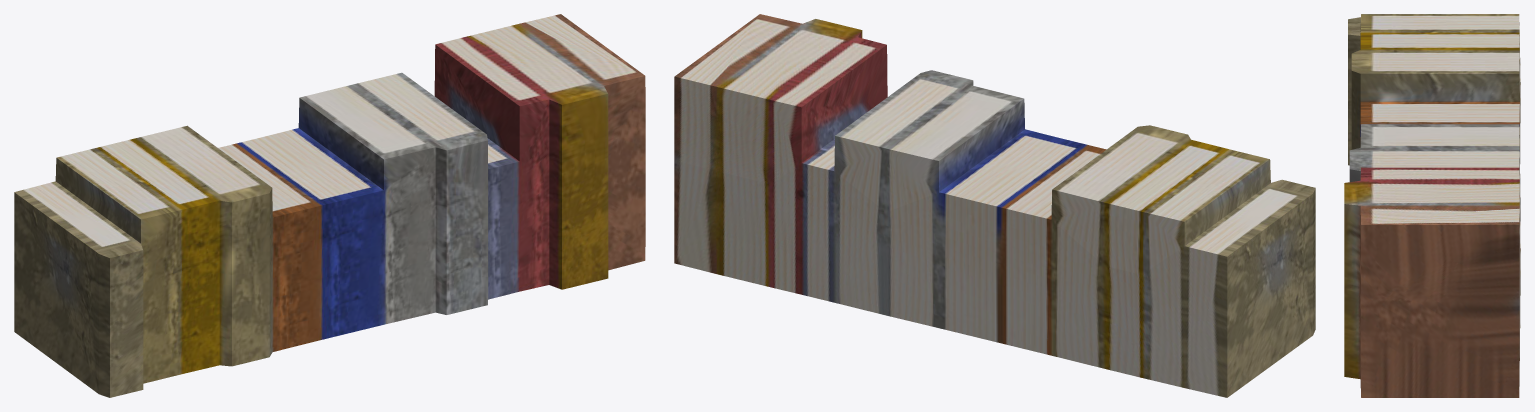
File: BookRow02_vi.fbx
3 views of the same model, side by side, from view 1: azimuth 30°, elevation 25°; view 2: azimuth 150°, elevation 25°; view 3: azimuth 270°, elevation 25° (orthographic). The views are drawn at different scales.
Parts seen in each view (by area): view 1: BookRow2; view 2: BookRow2; view 3: BookRow2.
Boxes of the visible parts, bbox=[...] form: BookRow2: bbox=[14, 14, 645, 397]; BookRow2: bbox=[674, 14, 1315, 397]; BookRow2: bbox=[1344, 14, 1520, 397].
Size of the model in its own units: 0.0151 by 0.0049 by 0.00451.
1 material, 1 textured.
